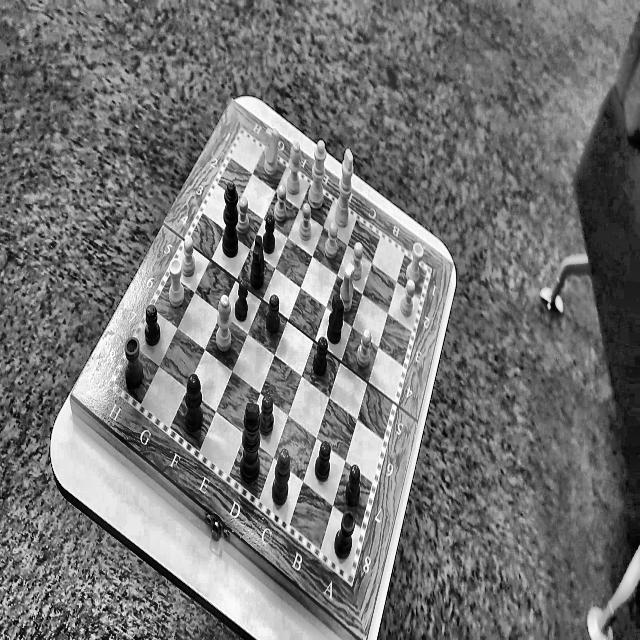chessboard: (115, 134, 427, 576)
